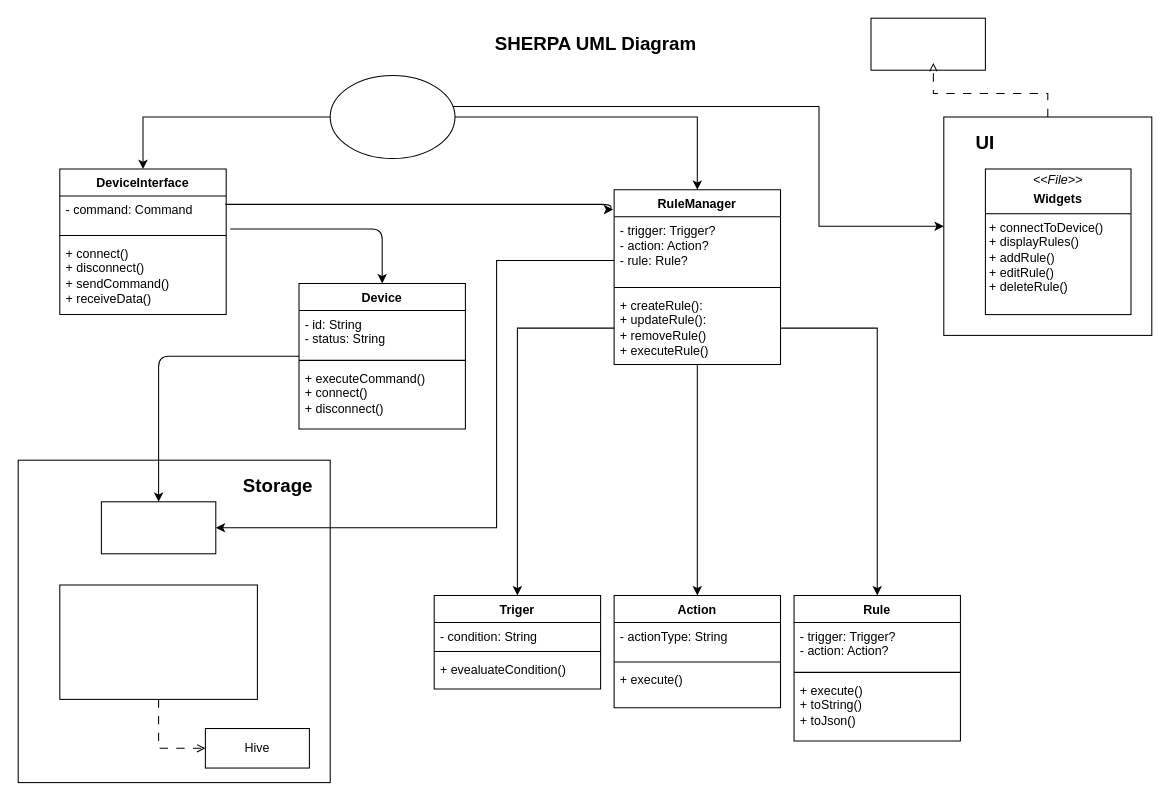
The diagram is 1170 pixels wide and 801 high, and some of its shapes have lost their labels. The shapes that lost their labels are listed below. From the top down, each one's centre as x and y in pixels, then its label:
At point (927, 43): "«Library» Material".
At point (392, 116): "Main".
At point (158, 527): "Cedes".
At point (158, 641): "<<File>> Storage + saveRule() + loadRules() + deleteRule()".
